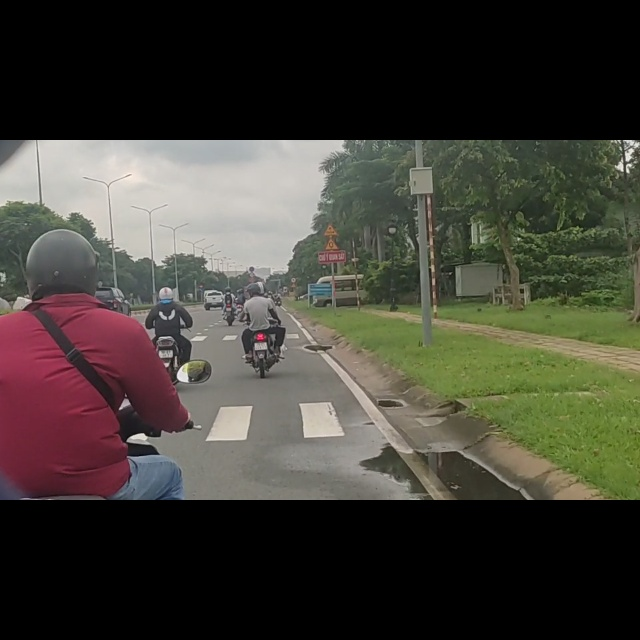bien_nguy_hiem: (323, 147, 339, 172), (324, 177, 340, 197), (249, 224, 256, 235)
